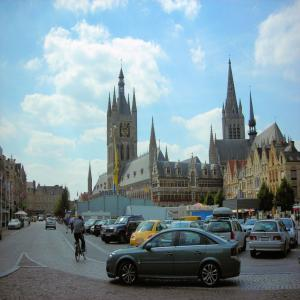Vehicle-registration-plate: (137, 240, 145, 243), (262, 239, 269, 242), (107, 234, 111, 237)
